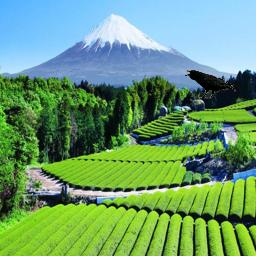Crow: (185, 70, 236, 99)
